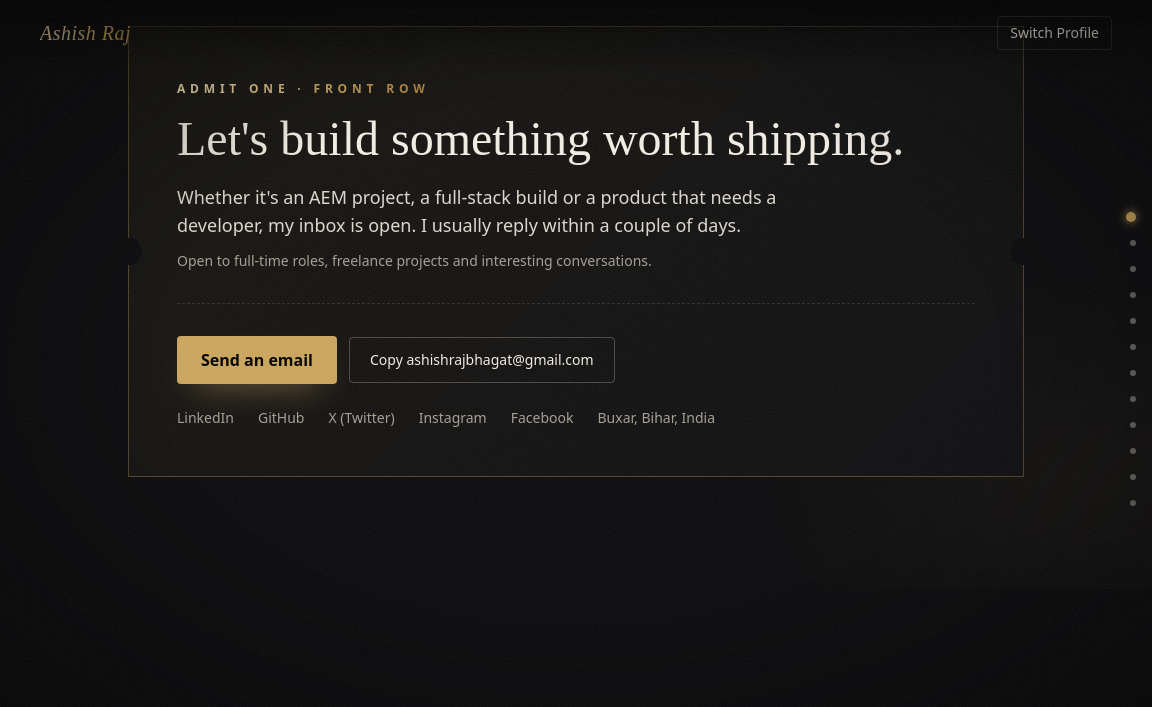
MovieExperience (reduced motion) › copies the email address
(page scrolled)
Click the button "Copy ashishrajbhagat@gmail.com" at (482, 360), box x1=349 y1=337 x2=615 y2=383
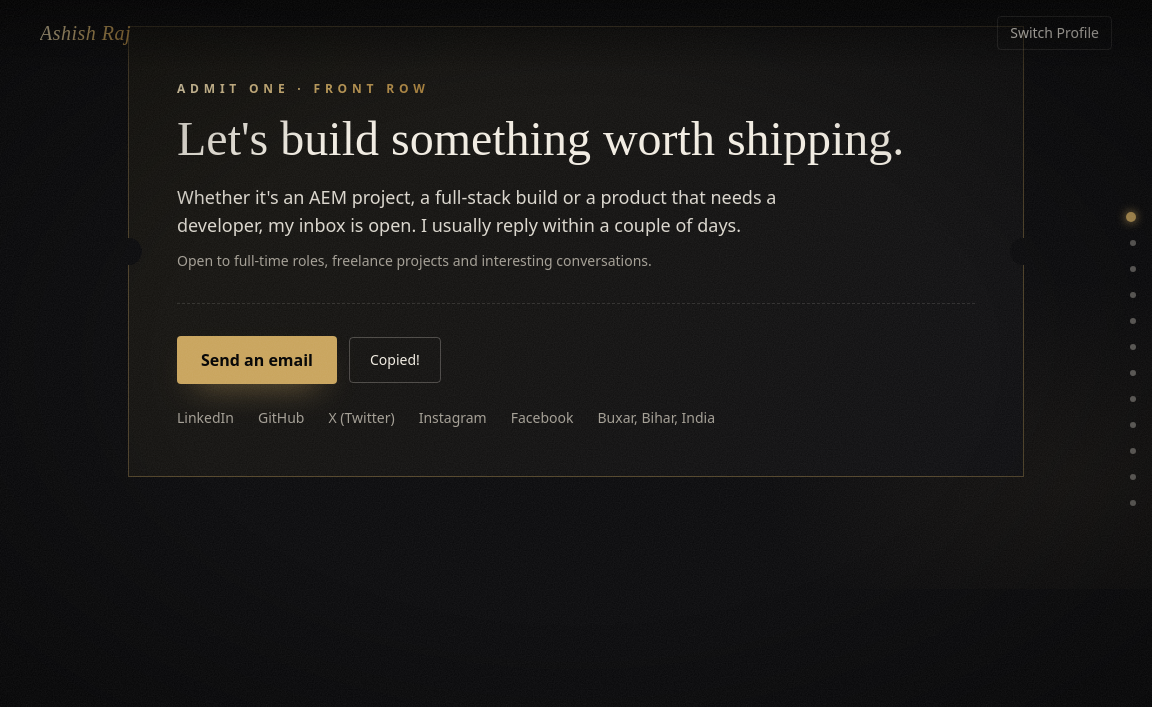
Now the button "Copied!" is shown, box x1=349 y1=337 x2=441 y2=383
